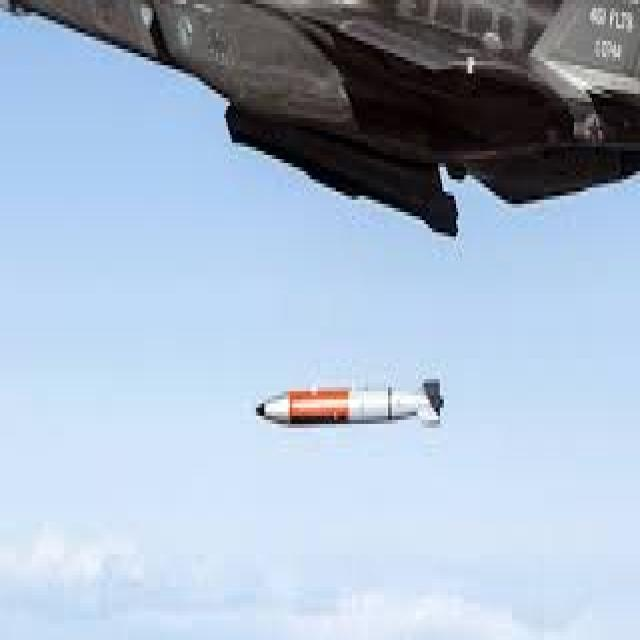Missile: (249, 378, 450, 447)
